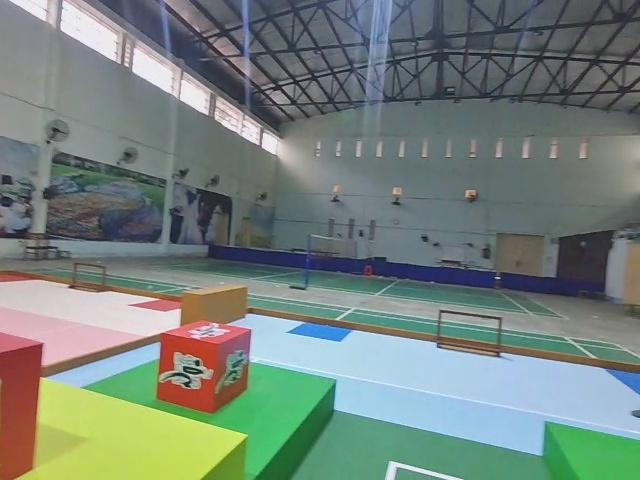R1: (157, 319, 253, 413)
